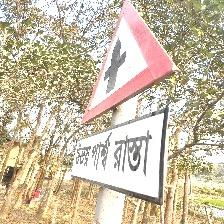Crossroad: (64, 0, 195, 208)
